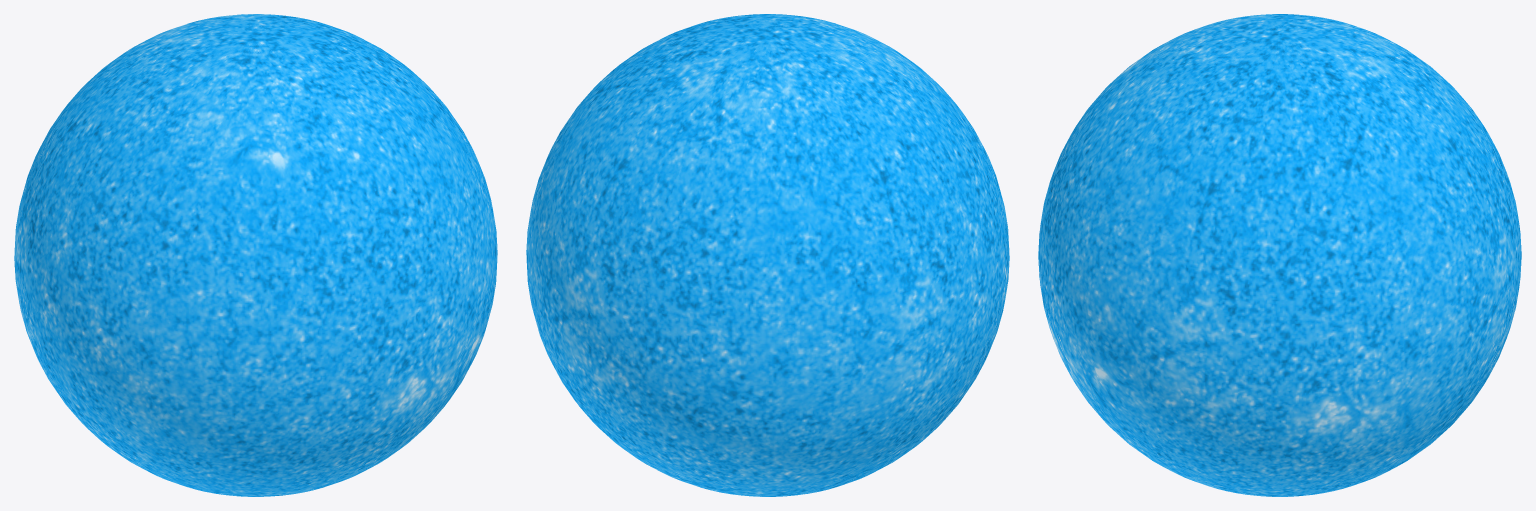
The model's file is scene_Sirius.glb.
The picture shows the model from 3 angles, left to right: view 1: azimuth 30°, elevation 25°; view 2: azimuth 150°, elevation 25°; view 3: azimuth 270°, elevation 25°; orthographic projection.
Visible parts, largest first — view 1: UnstableStarref_2_0; view 2: UnstableStarref_2_0; view 3: UnstableStarref_2_0.
Part boxes in pixels (<box>): UnstableStarref_2_0: <box>14,14,497,496</box>; UnstableStarref_2_0: <box>526,14,1009,496</box>; UnstableStarref_2_0: <box>1038,14,1521,496</box>.
Size of the model in its own units: 300 by 300 by 300.
Materials: 2 (1 with a texture image).
